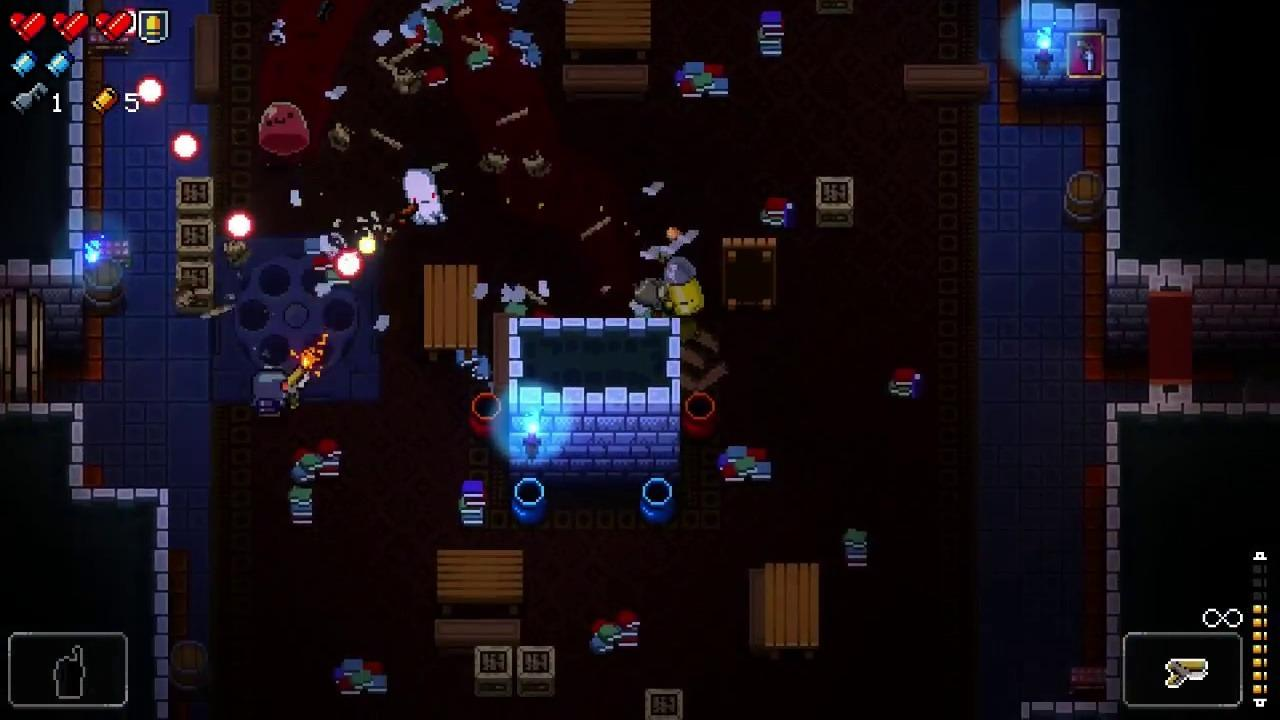blobulon_l: (256, 100, 311, 158)
blocked_door: (1149, 273, 1193, 402)
bullet: (224, 210, 254, 242), (170, 132, 201, 162), (336, 248, 363, 281), (137, 77, 165, 107)
bullet_kin: (663, 256, 706, 316)
hollowpoint: (401, 168, 449, 227)
locked_door: (0, 289, 44, 403)
player: (251, 370, 289, 419)
table: (436, 549, 525, 615), (765, 562, 820, 660), (424, 264, 480, 360), (565, 2, 651, 61), (721, 238, 777, 313)
teleporter: (209, 238, 381, 402)
wall: (508, 318, 681, 486)
